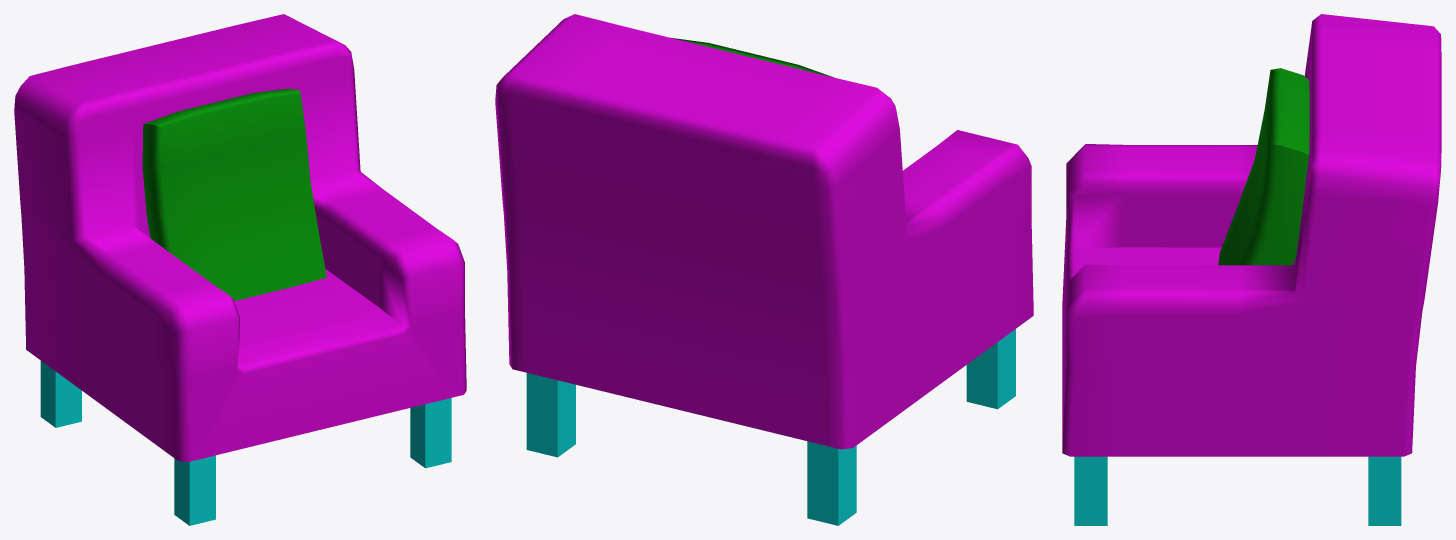
Rendered from SM_Armchair.fbx.
The picture shows the model from 3 angles, left to right: view 1: azimuth 30°, elevation 25°; view 2: azimuth 150°, elevation 25°; view 3: azimuth 270°, elevation 25°; orthographic projection. The views are drawn at different scales.
Parts seen in each view (by area): view 1: SM_Armchair; view 2: SM_Armchair; view 3: SM_Armchair.
Part boxes in pixels (left/top/right/bottom): SM_Armchair: left=14, top=14, right=466, bottom=525; SM_Armchair: left=495, top=14, right=1033, bottom=525; SM_Armchair: left=1062, top=14, right=1441, bottom=525.
Size of the model in its own units: 298 by 336 by 309.
